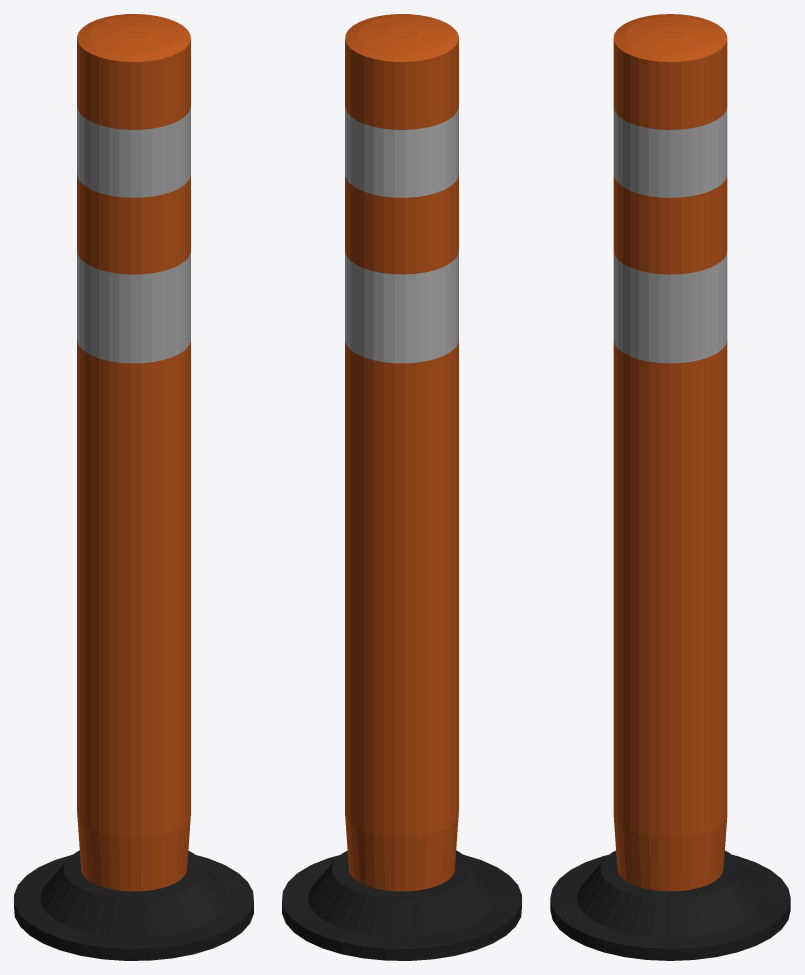
File: balisep.obj
3 views of the same model, side by side, from view 1: azimuth 30°, elevation 25°; view 2: azimuth 150°, elevation 25°; view 3: azimuth 270°, elevation 25° (orthographic).
Visible parts, largest first — view 1: Cylinder.002; view 2: Cylinder.002; view 3: Cylinder.002.
Boxes of the visible parts, x1,y1,x2,y2 form: Cylinder.002: (14,14,253,960); Cylinder.002: (282,14,521,960); Cylinder.002: (550,14,790,960).
Bounding box in the file's own units: 0.1987 × 0.8003 × 0.1987.
1 material, 1 textured.
